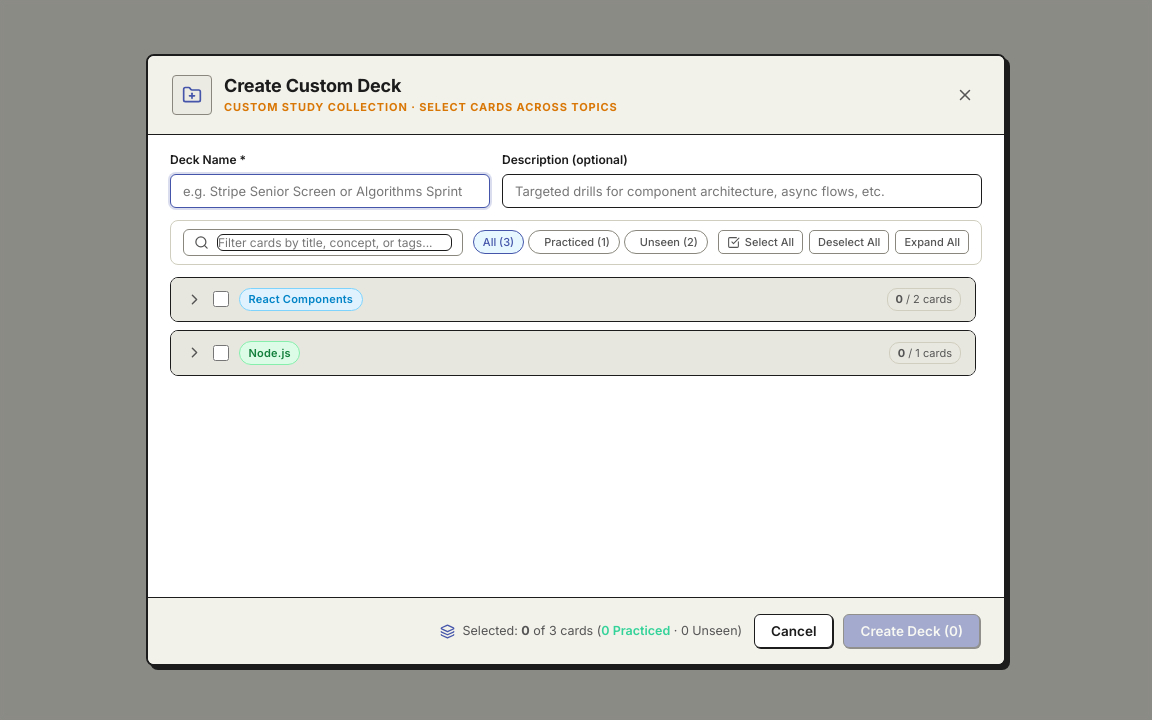
DeckEditorModal & CreateDeckModal › selects and deselects entire topic category via topic header checkbox
Note: Click to select all react-components cards (stepper + tabs-accordion-compound)
Click the checkbox with test id "deck-editor-topic-checkbox-react-components": (221, 299) 213,291 -> 229,307
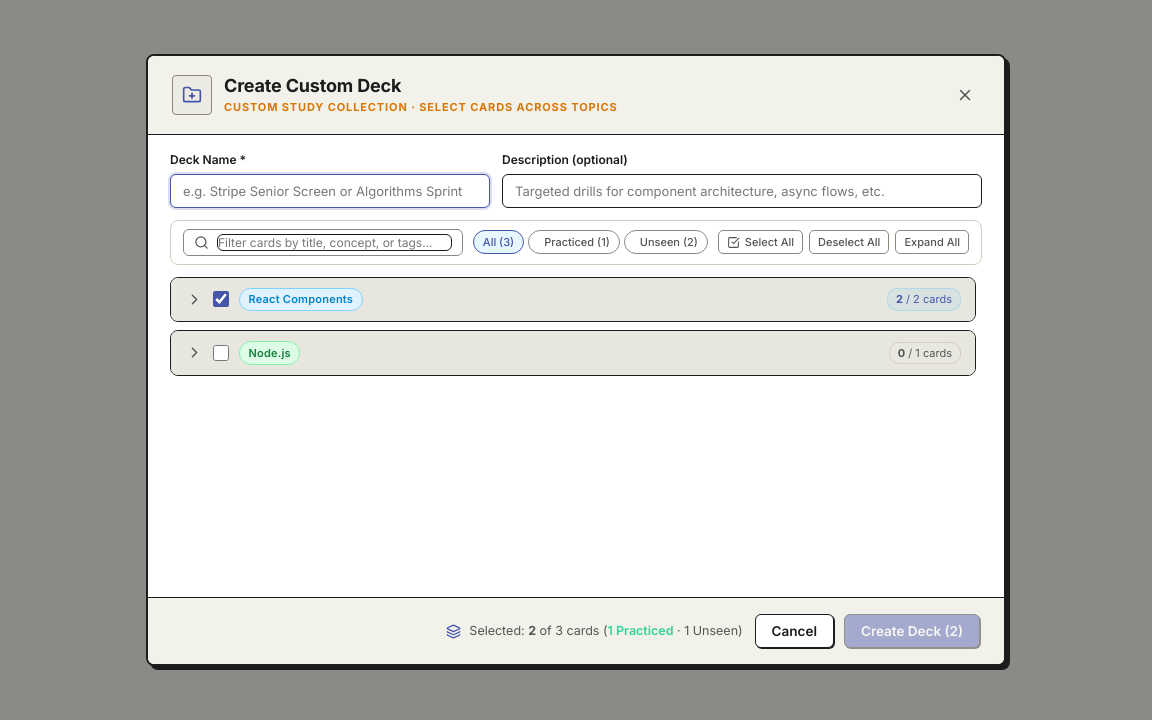
Expected: the checkbox with test id "deck-editor-topic-checkbox-react-components" is checked
Expected: the text "Selected: 2 of 3 cards" is shown, 469,622 -> 743,640
Note: Click again to deselect all in that topic
Click the checkbox with test id "deck-editor-topic-checkbox-react-components": (221, 299) 213,291 -> 229,307
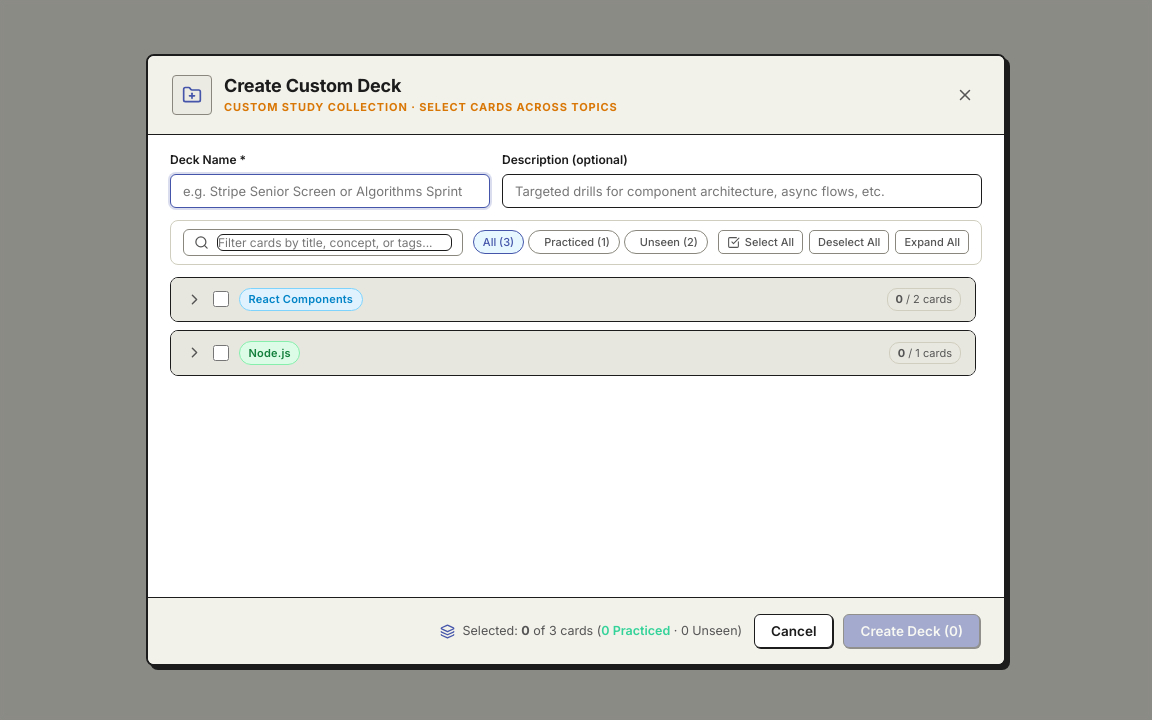
Expected: the checkbox with test id "deck-editor-topic-checkbox-react-components" is not checked, 213,291 -> 229,307
Expected: the text "Selected: 0 of 3 cards" is shown, 462,622 -> 742,640
